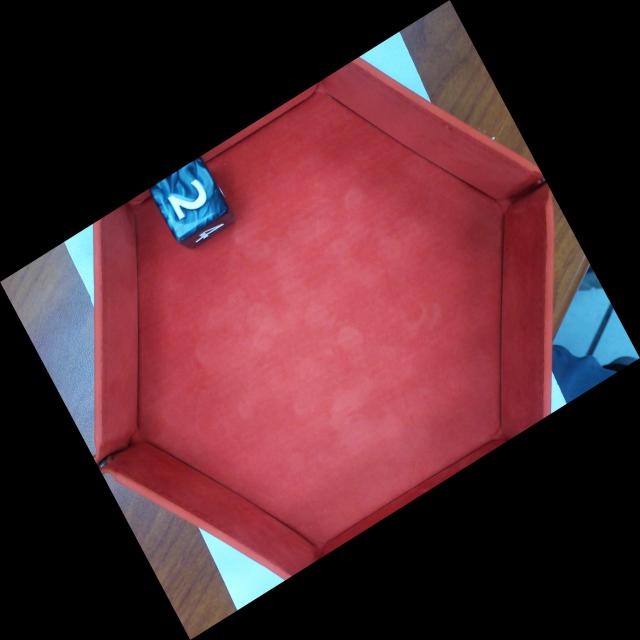dice: (150, 159, 229, 241)
